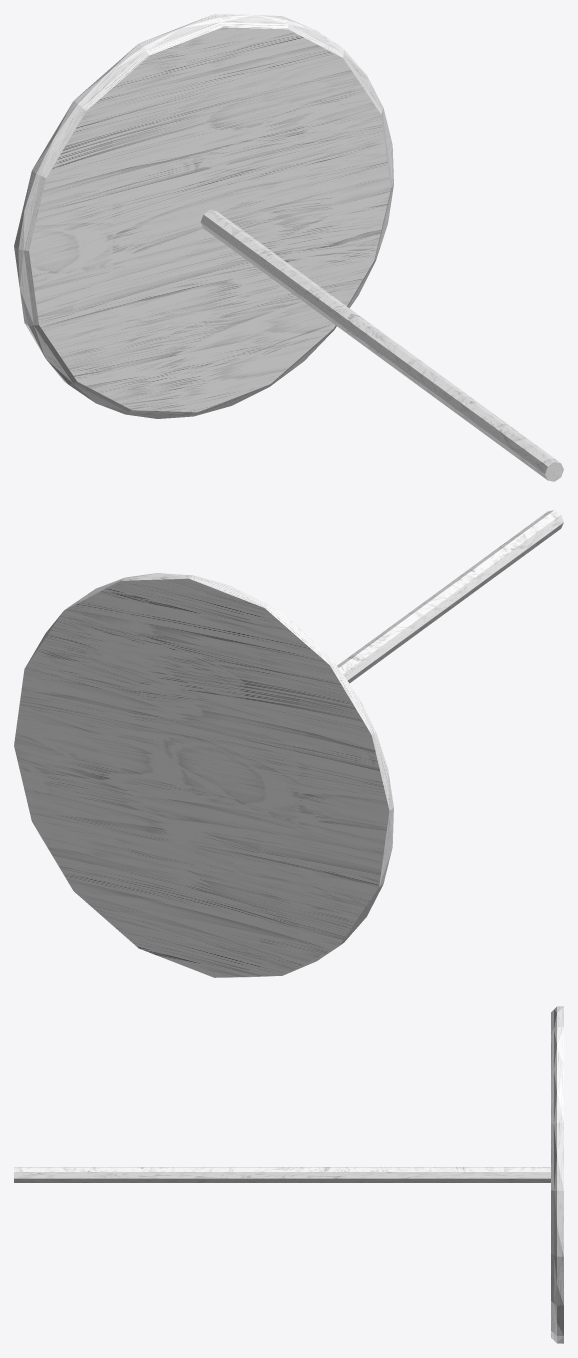
File: lampara.dae
3 renders of one model, top to bottom at view 1: azimuth 30°, elevation 25°; view 2: azimuth 150°, elevation 25°; view 3: azimuth 270°, elevation 25°, orthographic. The views are drawn at different scales.
Parts seen in each view (by area): view 1: node; view 2: node; view 3: node.
Boxes of the visible parts, left/top/right/bottom form: node: left=14, top=14, right=563, bottom=481; node: left=14, top=510, right=563, bottom=977; node: left=14, top=1006, right=563, bottom=1343.
Size of the model in its own units: 132 by 132 by 215.
1 material, 1 textured.
